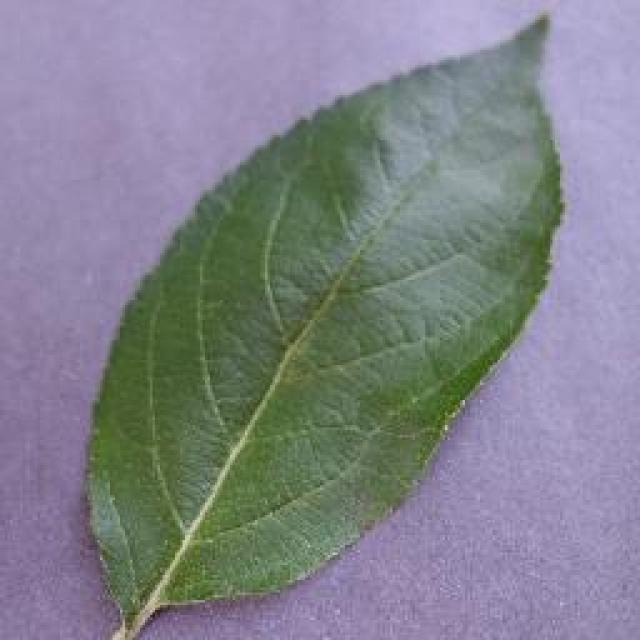apple healthy: (80, 10, 568, 638)
